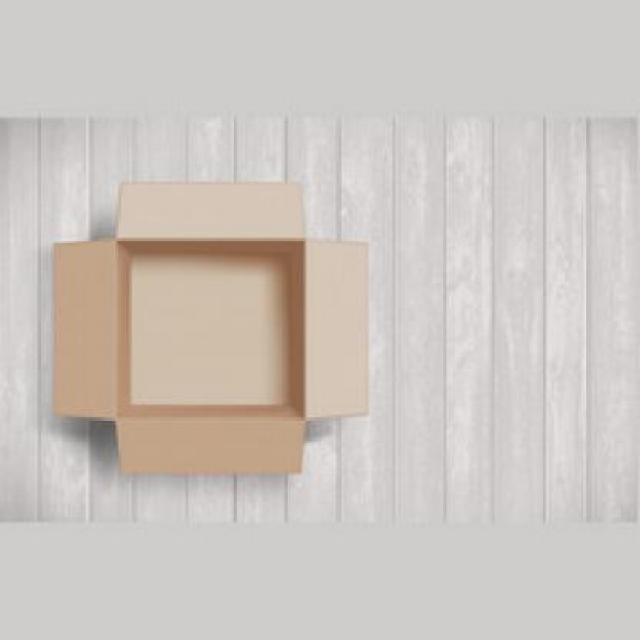box: (92, 220, 332, 436)
